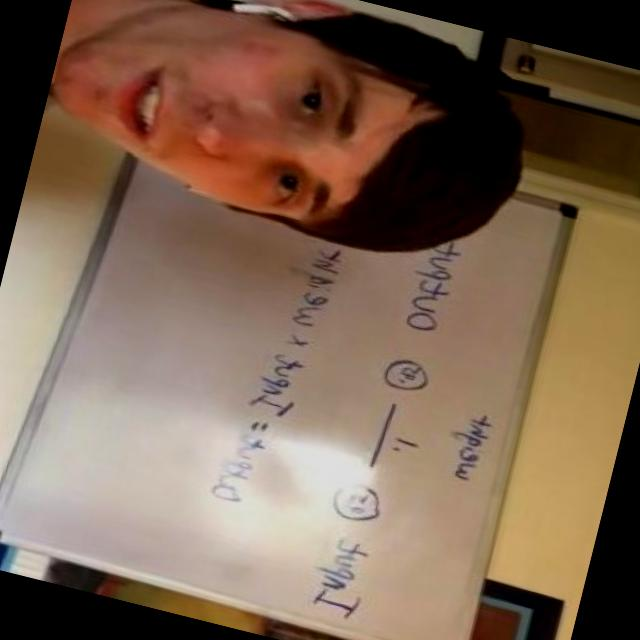Instructor: (42, 0, 576, 271)
White-board: (0, 94, 572, 640)
